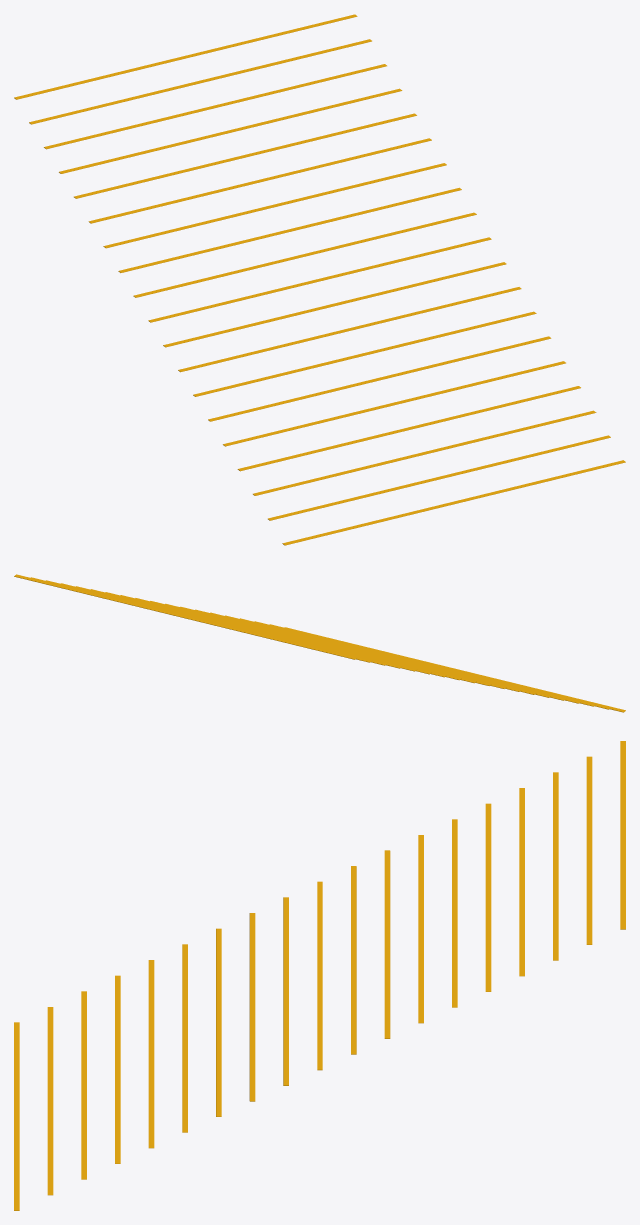
The model's file is gteki_ik_stair_n19_r168_t328_w4347_nosing.glb.
3 views of the same model, one above another, from view 1: azimuth 30°, elevation 25°; view 2: azimuth 150°, elevation 25°; view 3: azimuth 270°, elevation 25° (orthographic). The views are drawn at different scales.
Visible parts, largest first — view 1: VIS_nosings; view 2: VIS_nosings; view 3: VIS_nosings.
Part boxes in pixels (x1,y1,x2,y2): VIS_nosings: (14, 14, 625, 545); VIS_nosings: (14, 574, 625, 712); VIS_nosings: (14, 741, 625, 1210).
Bounding box in the file's own units: 4.33 × 3.03 × 5.96.
